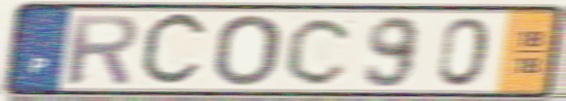0: (435, 15, 494, 88)
9: (361, 14, 424, 89)
C: (135, 8, 213, 92), (282, 14, 358, 87)
O: (210, 12, 284, 89)
R: (64, 12, 142, 87)
